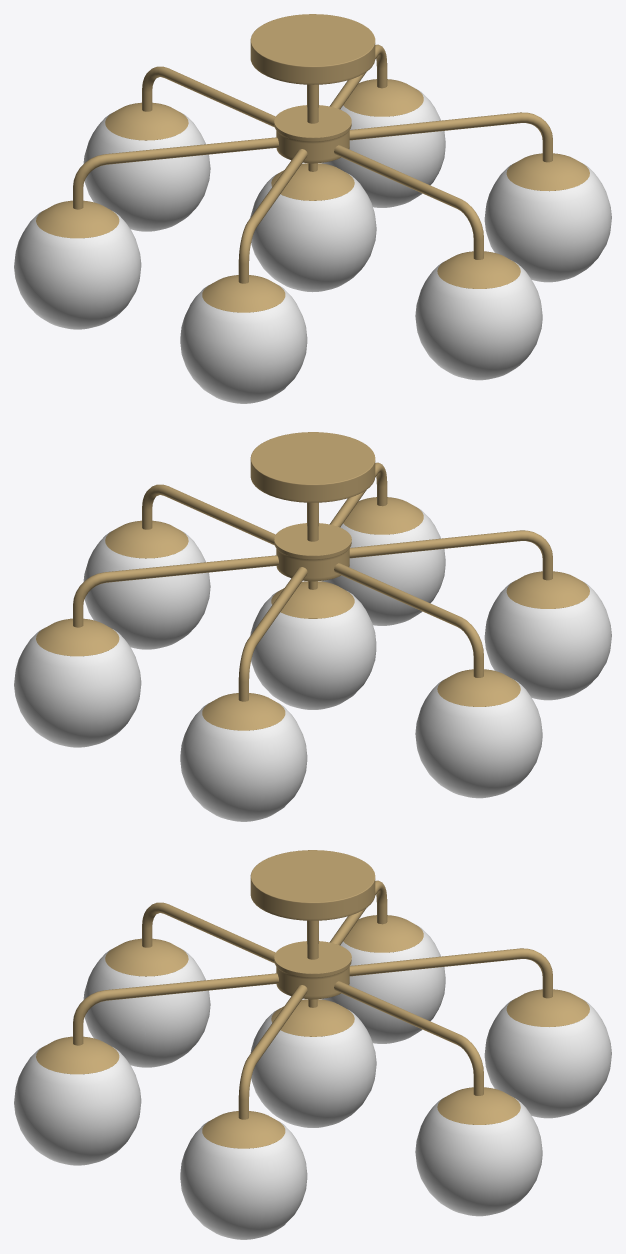
File: ceilingDecor.glb
3 views of the same model, one above another, from view 1: azimuth 30°, elevation 25°; view 2: azimuth 150°, elevation 25°; view 3: azimuth 270°, elevation 25° (orthographic).
Parts seen in each view (by area): view 1: Vegaflushmountlamp; view 2: Vegaflushmountlamp; view 3: Vegaflushmountlamp.
Part boxes in pixels (bbox=[...]): Vegaflushmountlamp: bbox=[14, 14, 611, 403]; Vegaflushmountlamp: bbox=[14, 432, 611, 821]; Vegaflushmountlamp: bbox=[14, 850, 611, 1239].
Size of the model in its own units: 0.5687 by 0.2762 by 0.576.
Materials: 1 (1 with a texture image).
